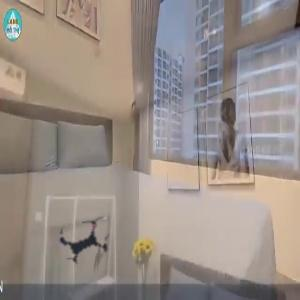drone: (37, 191, 134, 288)
